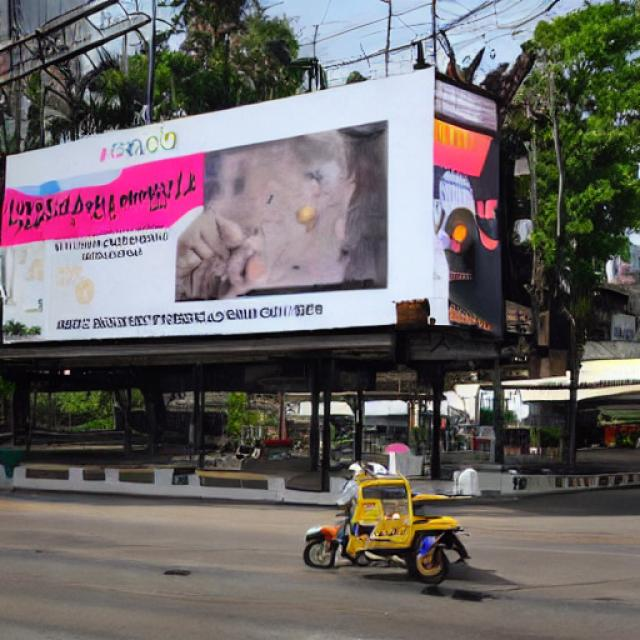Billboard: (0, 65, 436, 350), (436, 72, 506, 350)
